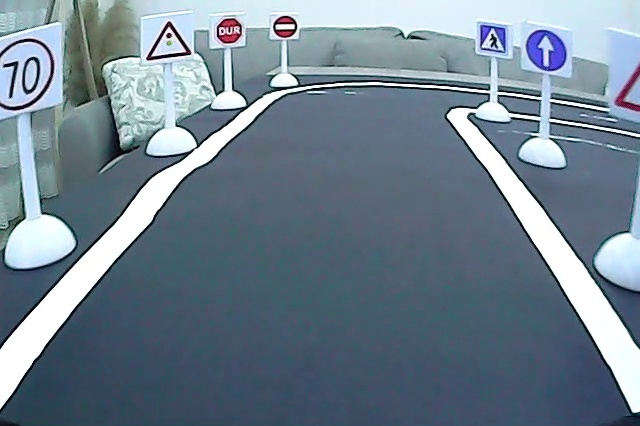do not enter: (272, 12, 302, 41)
pedestrian crossing: (476, 22, 511, 57)
red light: (143, 18, 194, 62)
speed limit 70: (1, 34, 57, 115)
stop sign: (214, 16, 245, 47)
